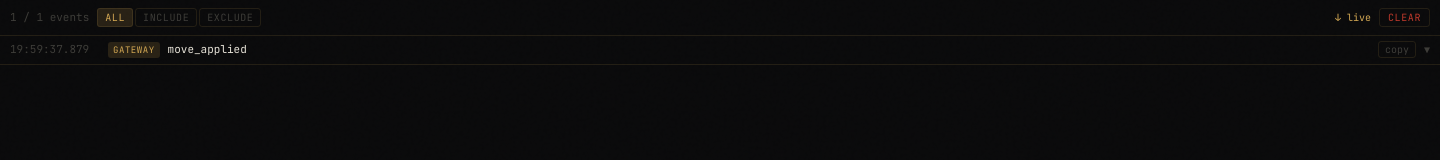
it: WsDevtools › clicking summary expands payload
Click the button with test id "event-summary": [50, 49] box [0,36,1439,64]
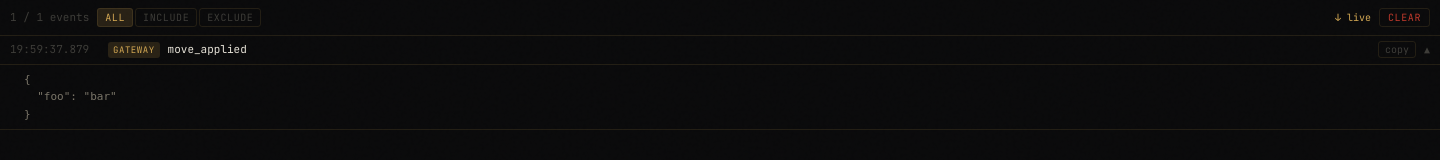
Now the text with test id "event-payload" shows "foo", box [24,73,117,121]
